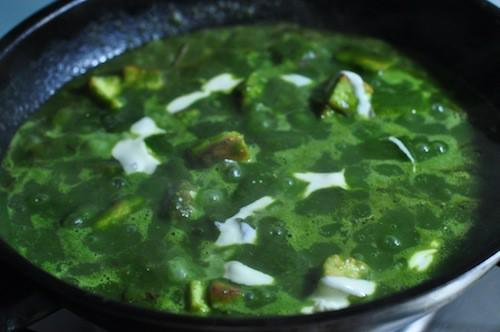PalakPaneer: (0, 18, 500, 313)
